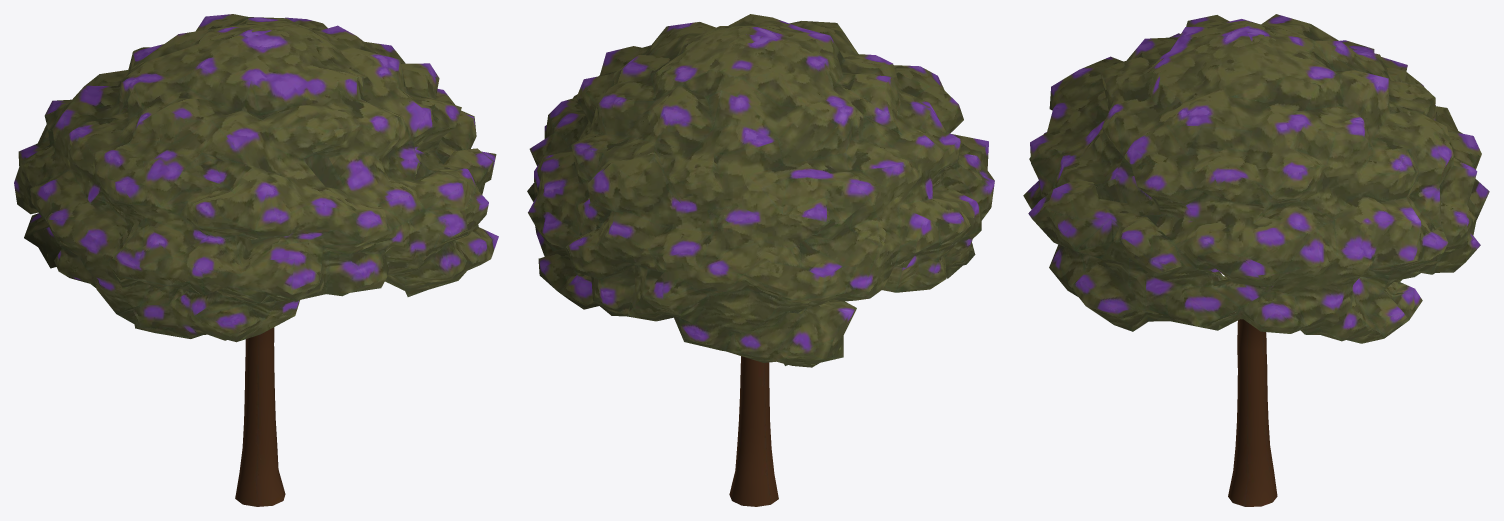
File: tree_round_a.glb
3 renders of one model, left to right at view 1: azimuth 30°, elevation 25°; view 2: azimuth 150°, elevation 25°; view 3: azimuth 270°, elevation 25°, orthographic.
Visible parts, largest first — view 1: body; view 2: body; view 3: body.
Boxes of the visible parts, x1,y1,x2,y2 form: body: [14, 14, 498, 506]; body: [527, 14, 994, 506]; body: [1023, 14, 1489, 506].
Bounding box in the file's own units: 5.21 × 5.51 × 5.04.
2 materials, 2 textured.
